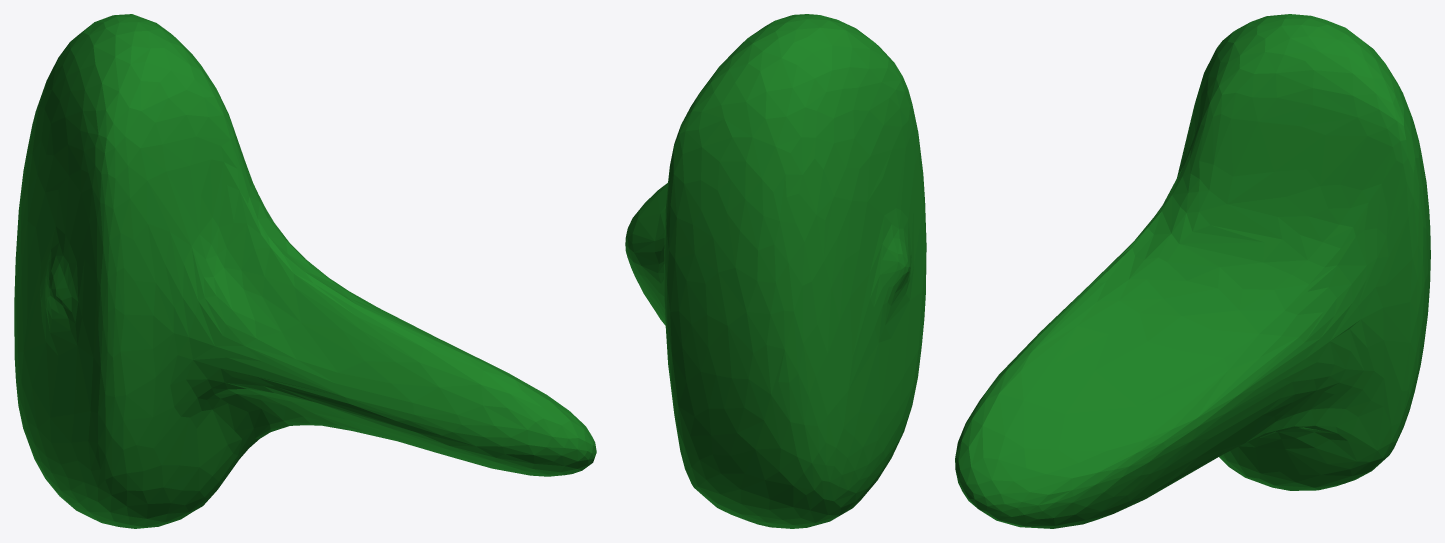
3 renders of one model, left to right at view 1: azimuth 30°, elevation 25°; view 2: azimuth 150°, elevation 25°; view 3: azimuth 270°, elevation 25°, orthographic. The views are drawn at different scales.
Visible parts, largest first — view 1: 156_Cube.651; view 2: 156_Cube.651; view 3: 156_Cube.651.
Boxes of the visible parts, x1,y1,x2,y2 form: 156_Cube.651: (14, 14, 596, 528); 156_Cube.651: (625, 14, 926, 528); 156_Cube.651: (955, 14, 1430, 528).
Bounding box in the file's own units: 9.03 × 10.79 × 10.09.
